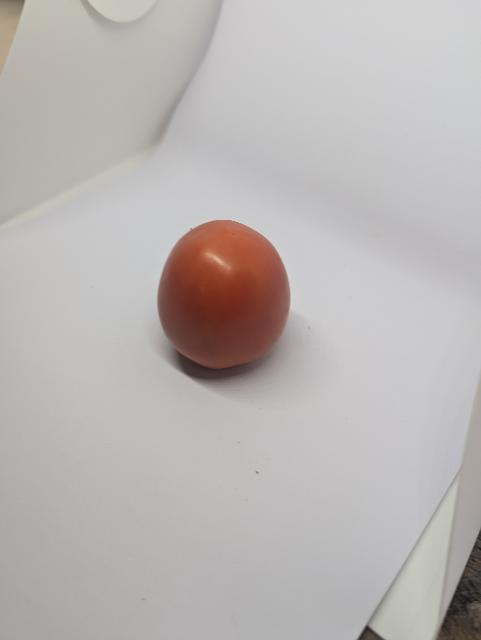red: (150, 216, 307, 379)
